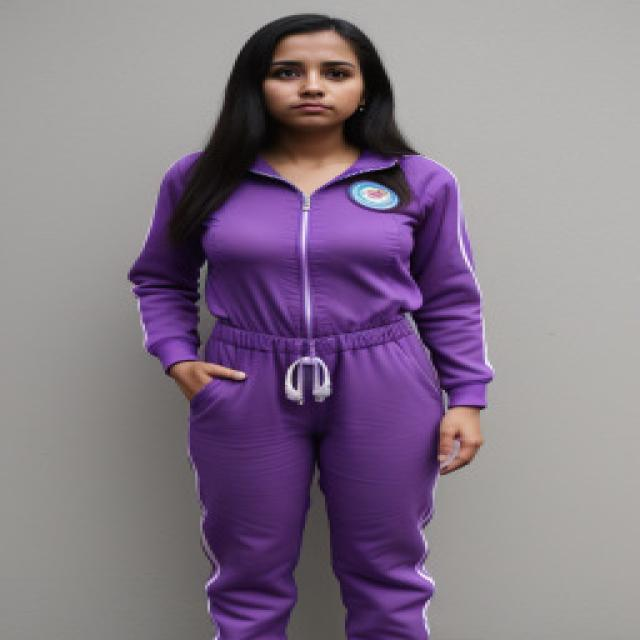Ai human 2: (121, 9, 520, 640)
